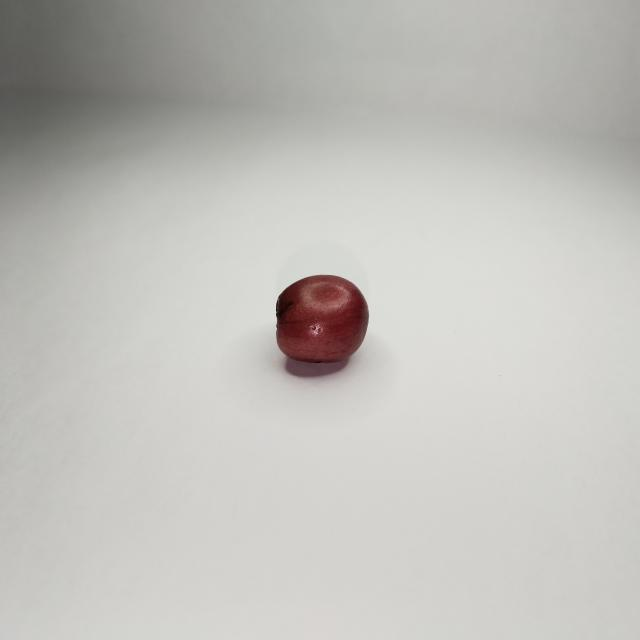Sano: (276, 275, 368, 371)
